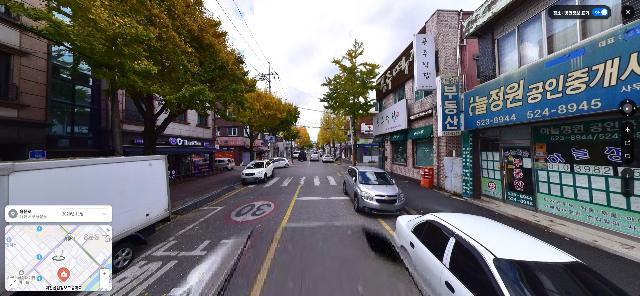ginkgo: (230, 91, 289, 160), (324, 106, 358, 161), (315, 112, 344, 158), (284, 126, 312, 155)
other: (0, 0, 253, 154), (317, 39, 389, 165), (259, 100, 301, 159)
